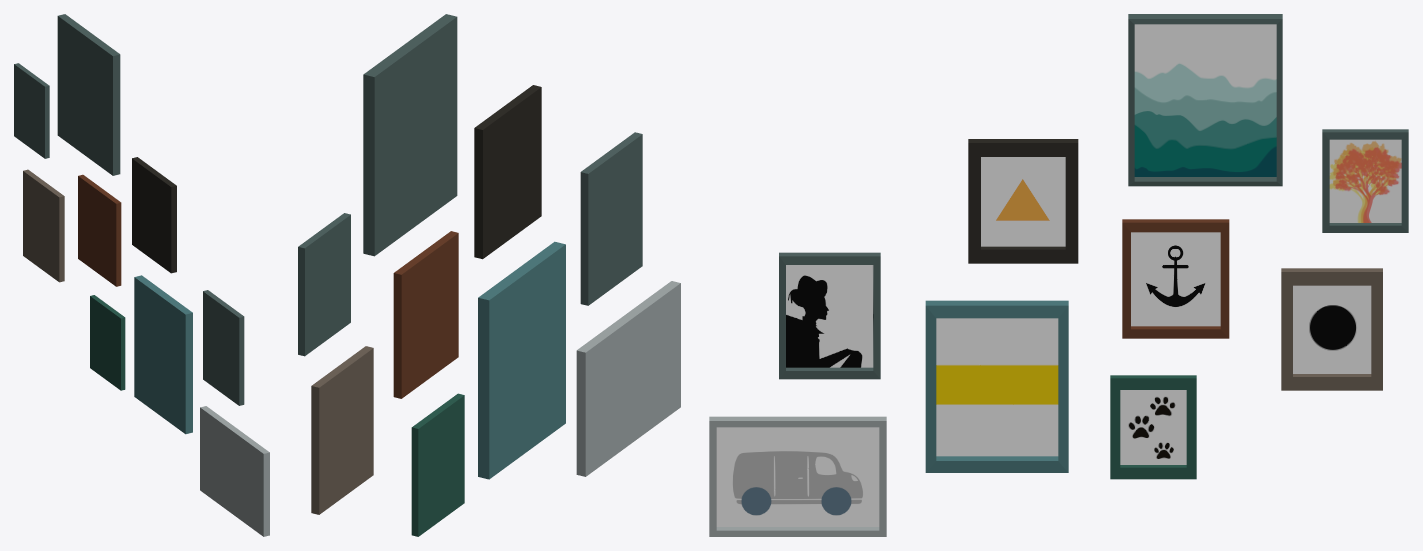
The model's file is cadres.gltf.
3 views of the same model, side by side, from view 1: azimuth 30°, elevation 25°; view 2: azimuth 150°, elevation 25°; view 3: azimuth 270°, elevation 25° (orthographic). The views are drawn at different scales.
Visible parts, largest first — view 1: Cube, Cube.004, Cube.005, Cube.002, Cube.007, Cube.006, Cube.009, Cube.003, Cube.008; view 2: Cube, Cube.004, Cube.005, Cube.002, Cube.007, Cube.006, Cube.009, Cube.008, Cube.003; view 3: Cube, Cube.004, Cube.005, Cube.002, Cube.007, Cube.006, Cube.009, Cube.008, Cube.003.
Boxes of the visible parts, bbox=[...] form: Cube: bbox=[57, 14, 120, 175]; Cube.004: bbox=[134, 275, 192, 434]; Cube.005: bbox=[200, 406, 269, 536]; Cube.002: bbox=[132, 157, 176, 273]; Cube.007: bbox=[203, 290, 244, 405]; Cube.006: bbox=[78, 174, 121, 286]; Cube.009: bbox=[23, 169, 64, 282]; Cube.003: bbox=[14, 63, 49, 158]; Cube.008: bbox=[90, 295, 125, 390]; Cube: bbox=[363, 14, 457, 256]; Cube.004: bbox=[478, 241, 565, 479]; Cube.005: bbox=[576, 281, 680, 476]; Cube.002: bbox=[474, 85, 541, 259]; Cube.007: bbox=[580, 132, 642, 305]; Cube.006: bbox=[393, 231, 458, 398]; Cube.009: bbox=[311, 346, 373, 514]; Cube.008: bbox=[411, 393, 464, 536]; Cube.003: bbox=[298, 213, 350, 356]; Cube: bbox=[1128, 14, 1282, 186]; Cube.004: bbox=[925, 300, 1068, 472]; Cube.005: bbox=[709, 416, 886, 536]; Cube.002: bbox=[968, 139, 1078, 263]; Cube.007: bbox=[779, 252, 880, 379]; Cube.006: bbox=[1122, 219, 1229, 338]; Cube.009: bbox=[1281, 268, 1382, 390]; Cube.008: bbox=[1110, 375, 1196, 479]; Cube.003: bbox=[1322, 129, 1408, 232].
Size of the model in its own units: 0.00924 by 0.4185 by 0.512.
18 materials, 9 textured.
